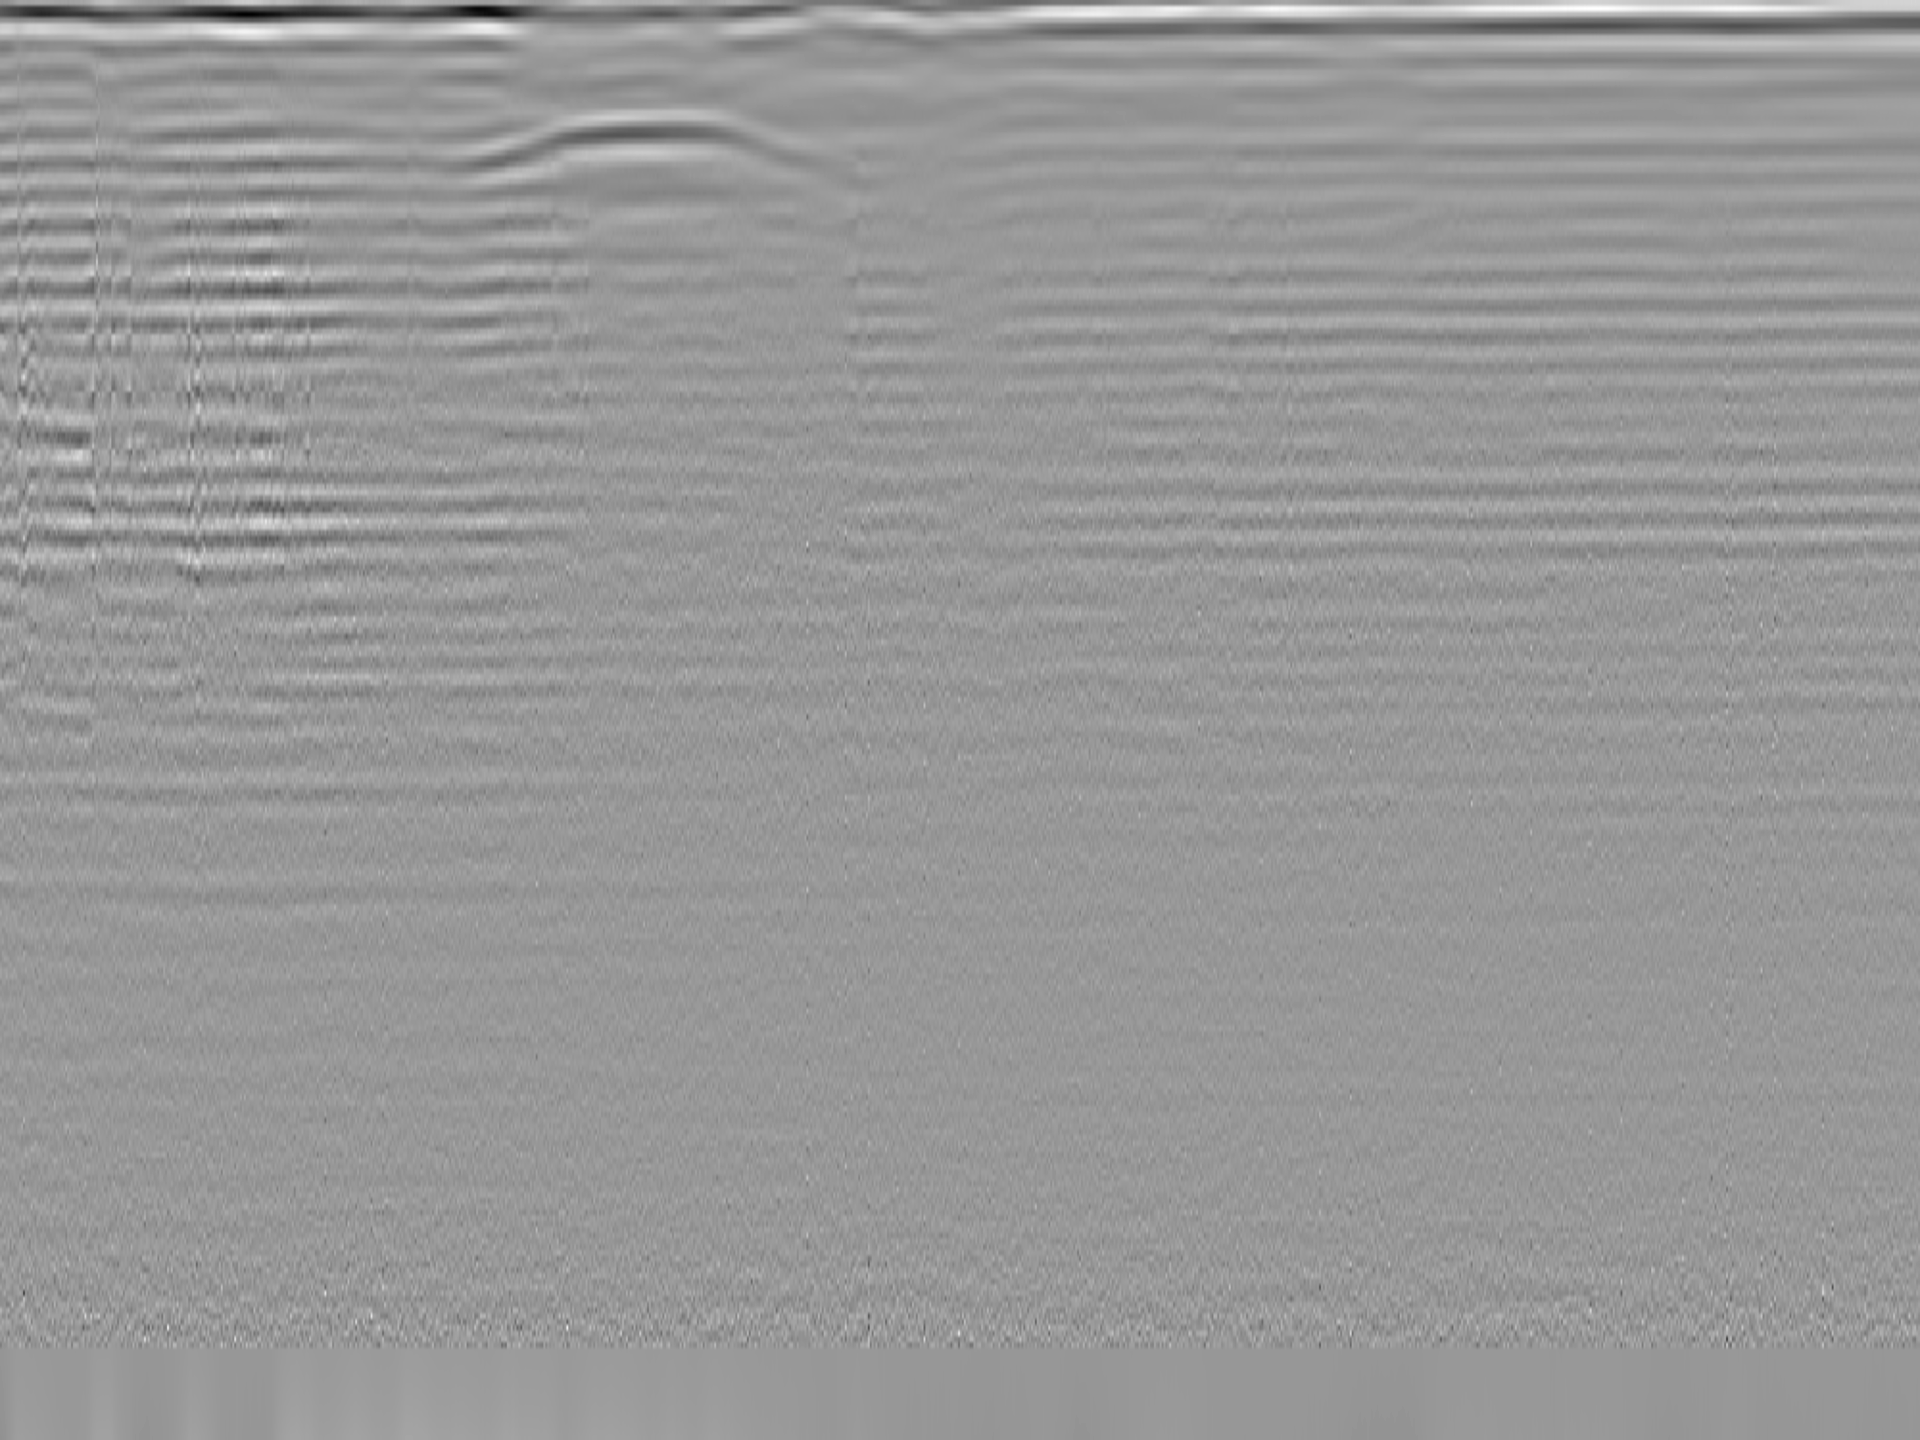Tunnel: (473, 112, 844, 175)
